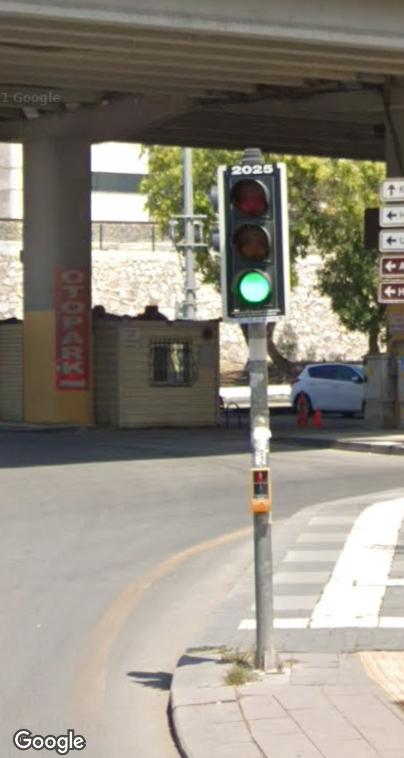greenlight: (218, 161, 287, 324)
